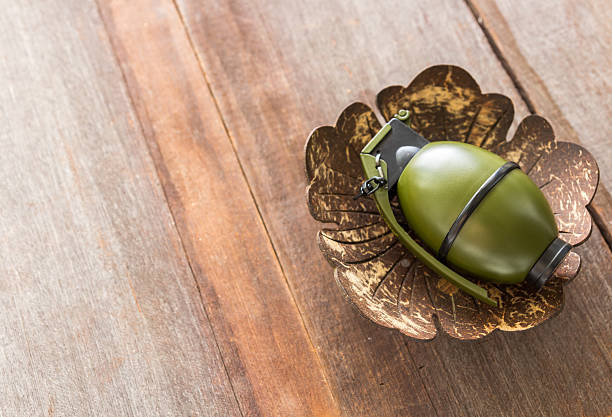e1: (361, 113, 571, 307)
